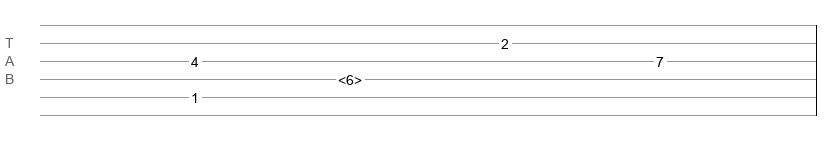1: (191, 90, 199, 100)
2: (501, 36, 509, 46)
4: (191, 54, 199, 64)
7: (656, 54, 664, 64)
harmonic: (338, 72, 362, 82)
